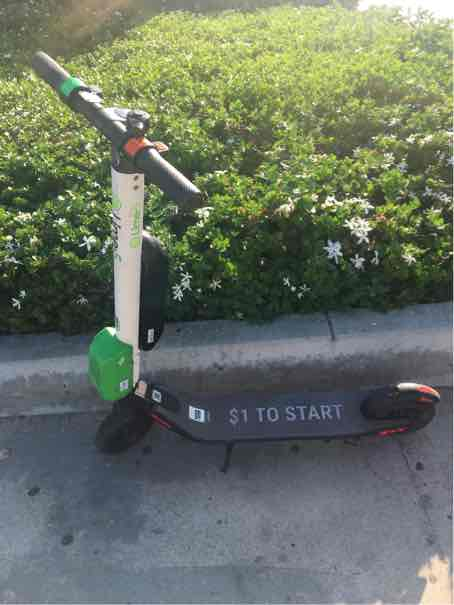scooter: (20, 47, 453, 468)
